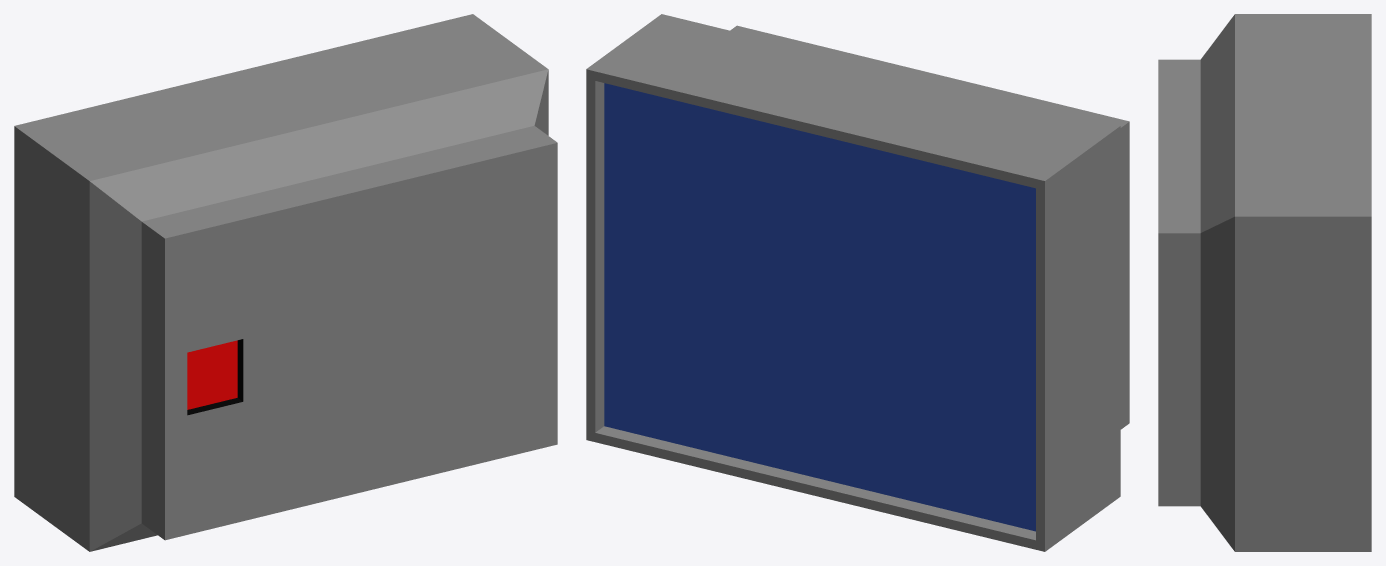
File: OldBigComputer.fbx
3 renders of one model, left to right at view 1: azimuth 30°, elevation 25°; view 2: azimuth 150°, elevation 25°; view 3: azimuth 270°, elevation 25°, orthographic. The views are drawn at different scales.
Visible parts, largest first — view 1: Cube_Cube.001; view 2: Cube_Cube.001; view 3: Cube_Cube.001.
Boxes of the visible parts, left/top/right/bottom form: Cube_Cube.001: left=14, top=14, right=557, bottom=551; Cube_Cube.001: left=586, top=14, right=1129, bottom=551; Cube_Cube.001: left=1158, top=14, right=1371, bottom=551.
Size of the model in its own units: 466 by 360 by 207.
